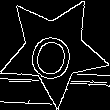O_N: (27, 20, 80, 81)
